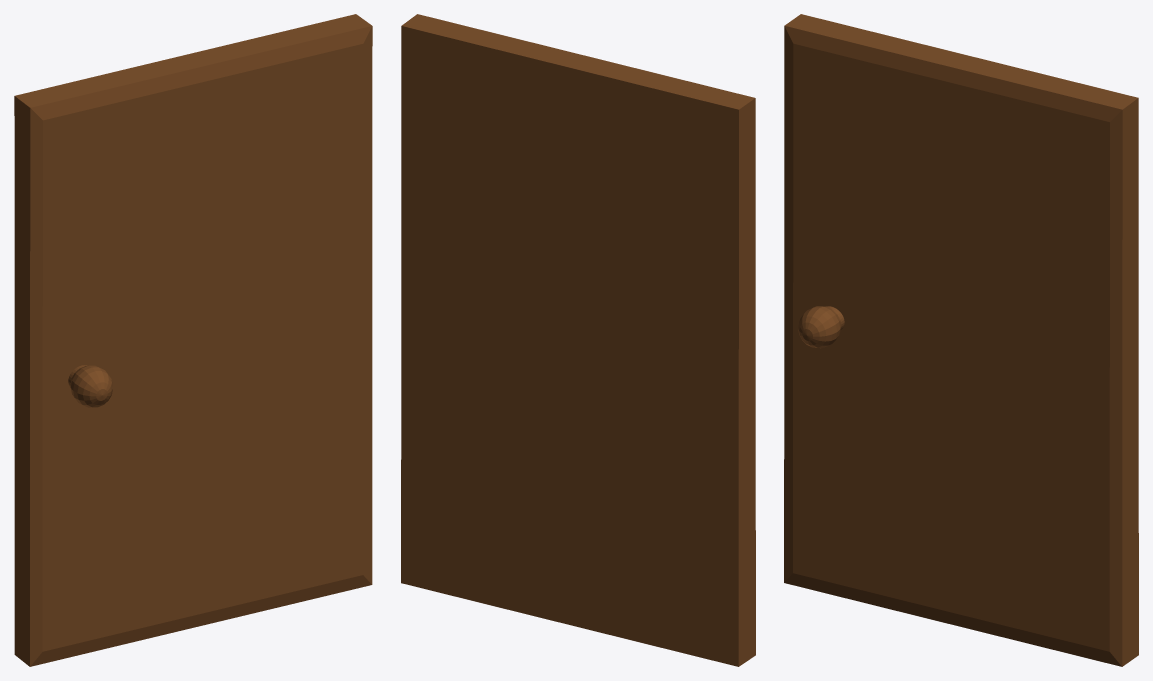
Rendered from Door (1).fbx.
3 renders of one model, left to right at view 1: azimuth 30°, elevation 25°; view 2: azimuth 150°, elevation 25°; view 3: azimuth 330°, elevation 25°, orthographic.
Visible parts, largest first — view 1: Hut.001; view 2: Hut.001; view 3: Hut.001.
Boxes of the visible parts, left/top/right/bottom form: Hut.001: left=14, top=14, right=372, bottom=666; Hut.001: left=401, top=14, right=755, bottom=666; Hut.001: left=784, top=14, right=1138, bottom=666.
Bounding box in the file's own units: 437 × 685 × 90.94.
